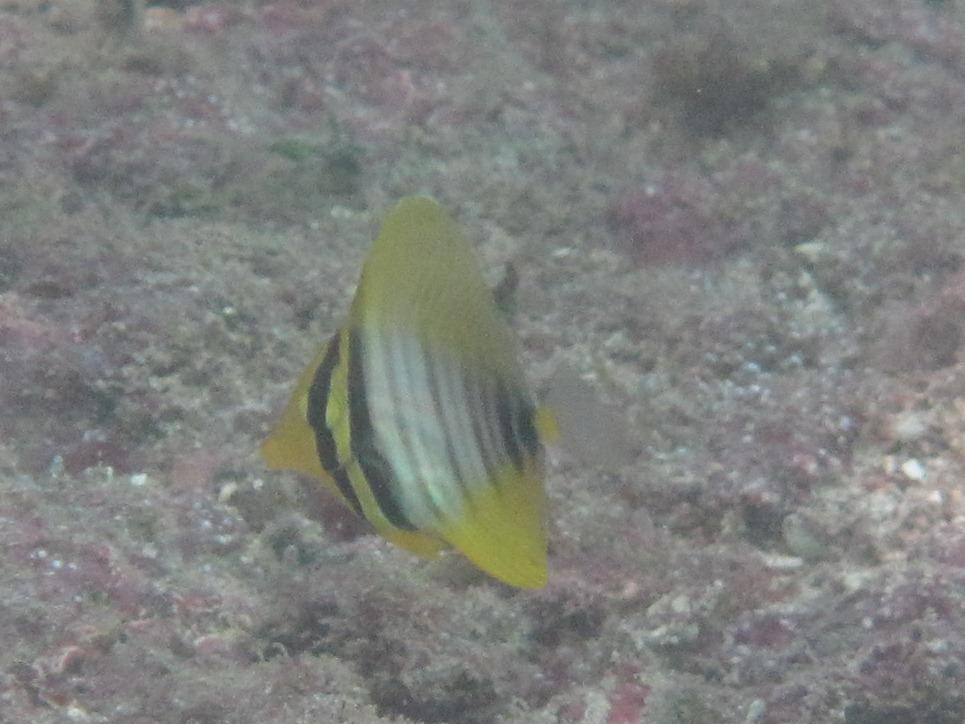Fish: (206, 187, 648, 602)
